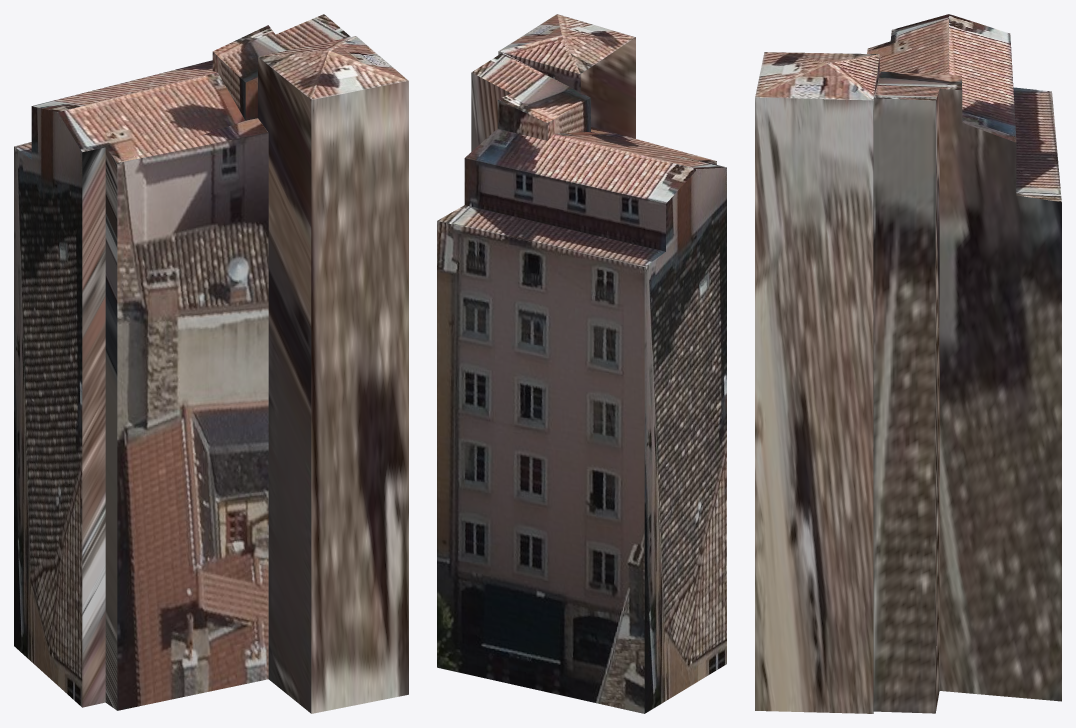
3 views of the same model, side by side, from view 1: azimuth 30°, elevation 25°; view 2: azimuth 150°, elevation 25°; view 3: azimuth 270°, elevation 25° (orthographic). The views are drawn at different scales.
Parts seen in each view (by area): view 1: Z_UP; view 2: Z_UP; view 3: Z_UP.
Part boxes in pixels (box(x1,y1,x2,y2)): Z_UP: box(14, 14, 408, 713); Z_UP: box(437, 14, 726, 713); Z_UP: box(755, 14, 1061, 713).
Size of the model in its own units: 11.89 by 26.93 by 11.94.
2 materials, 1 textured.
